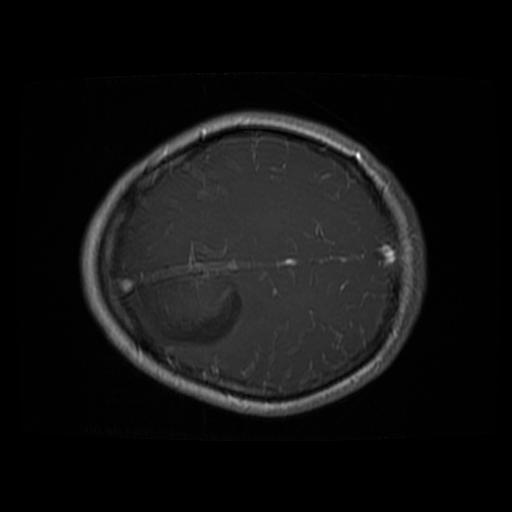glioma: (143, 273, 243, 347)
